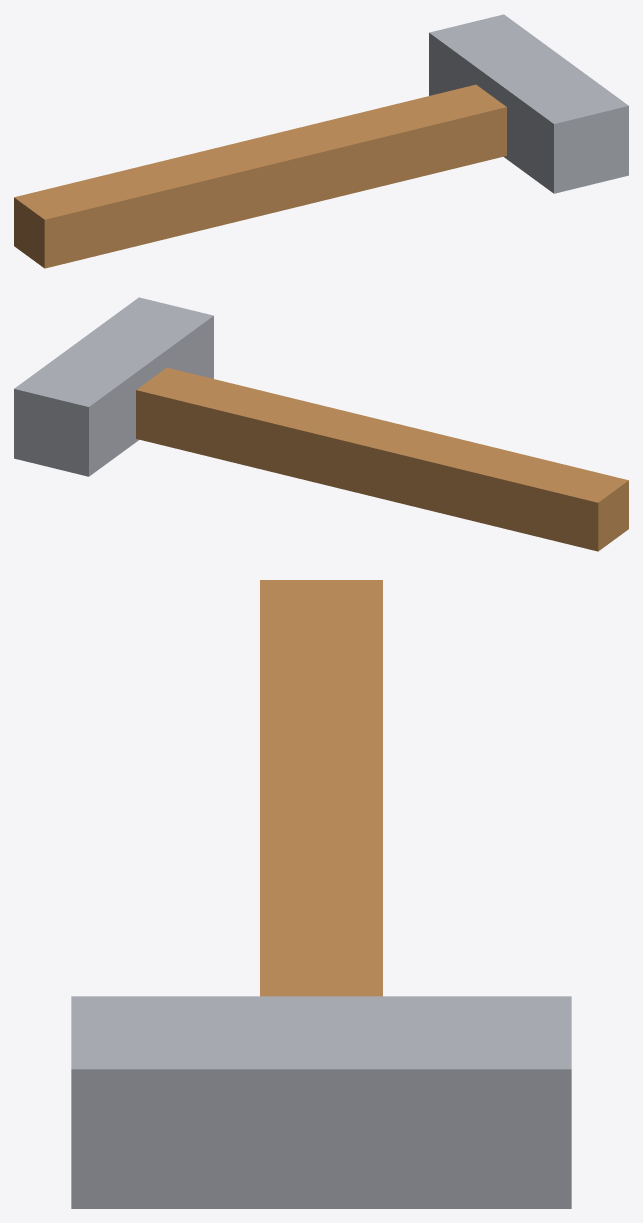
Rendered from garage_hammer.glb.
3 views of the same model, one above another, from view 1: azimuth 30°, elevation 25°; view 2: azimuth 150°, elevation 25°; view 3: azimuth 270°, elevation 25° (orthographic). The views are drawn at different scales.
Visible parts, largest first — view 1: handle_tool_wood, head_tool_chrome; view 2: handle_tool_wood, head_tool_chrome; view 3: head_tool_chrome, handle_tool_wood.
Part boxes in pixels (<box>): handle_tool_wood: <box>14,84,506,268</box>; head_tool_chrome: <box>429,14,628,193</box>; handle_tool_wood: <box>136,367,628,551</box>; head_tool_chrome: <box>14,297,213,476</box>; head_tool_chrome: <box>71,996,571,1208</box>; handle_tool_wood: <box>260,580,382,996</box>.
Bounding box in the file's own units: 0.3225 × 0.04 × 0.13.
